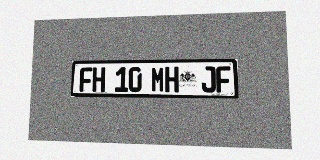0: (128, 67, 142, 92)
1: (115, 67, 128, 92)
F: (216, 66, 231, 93), (79, 67, 92, 92)
H: (165, 67, 179, 92), (92, 67, 105, 92)
J: (201, 66, 216, 93)
M: (151, 67, 165, 92)
